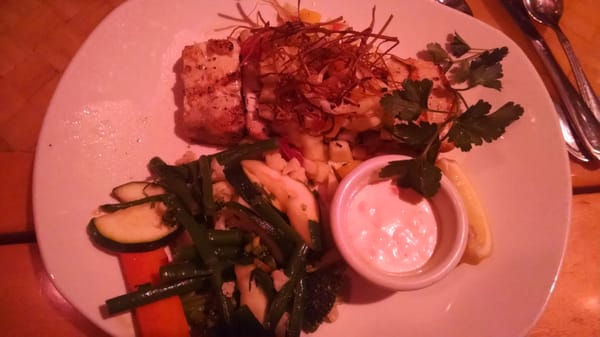sushi: (23, 2, 595, 331)
